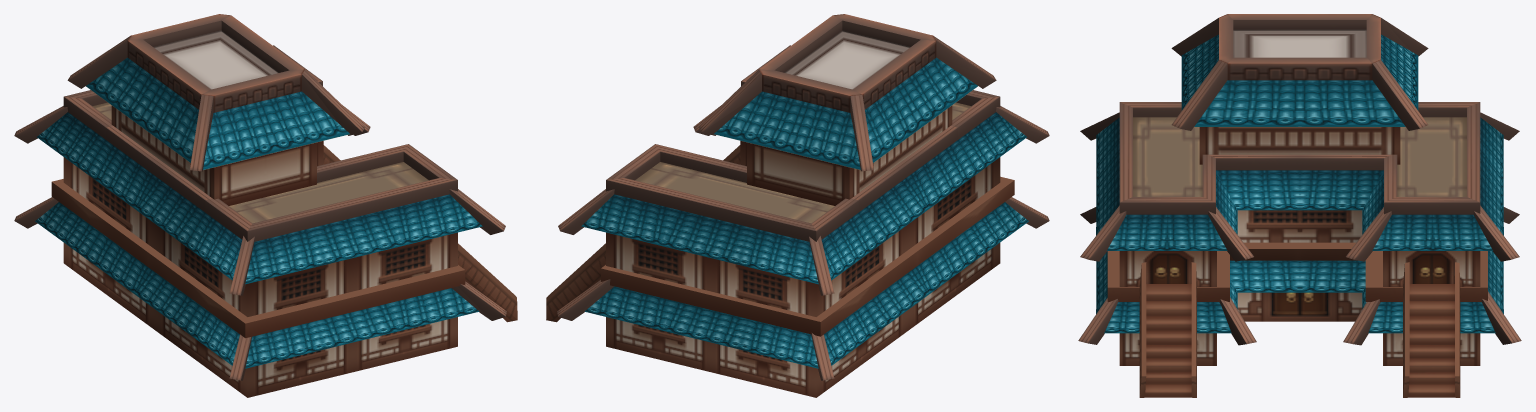
File: QSMY_City_BangPai.FBX
3 renders of one model, left to right at view 1: azimuth 30°, elevation 25°; view 2: azimuth 150°, elevation 25°; view 3: azimuth 270°, elevation 25°, orthographic.
Visible parts, largest first — view 1: Object120; view 2: Object120; view 3: Object120.
Part boxes in pixels (x1=…): Object120: x1=14, y1=14, x2=517, y2=397; Object120: x1=546, y1=14, x2=1049, y2=397; Object120: x1=1078, y1=14, x2=1521, y2=397.
Size of the model in its own units: 20.02 by 15.84 by 24.91.
